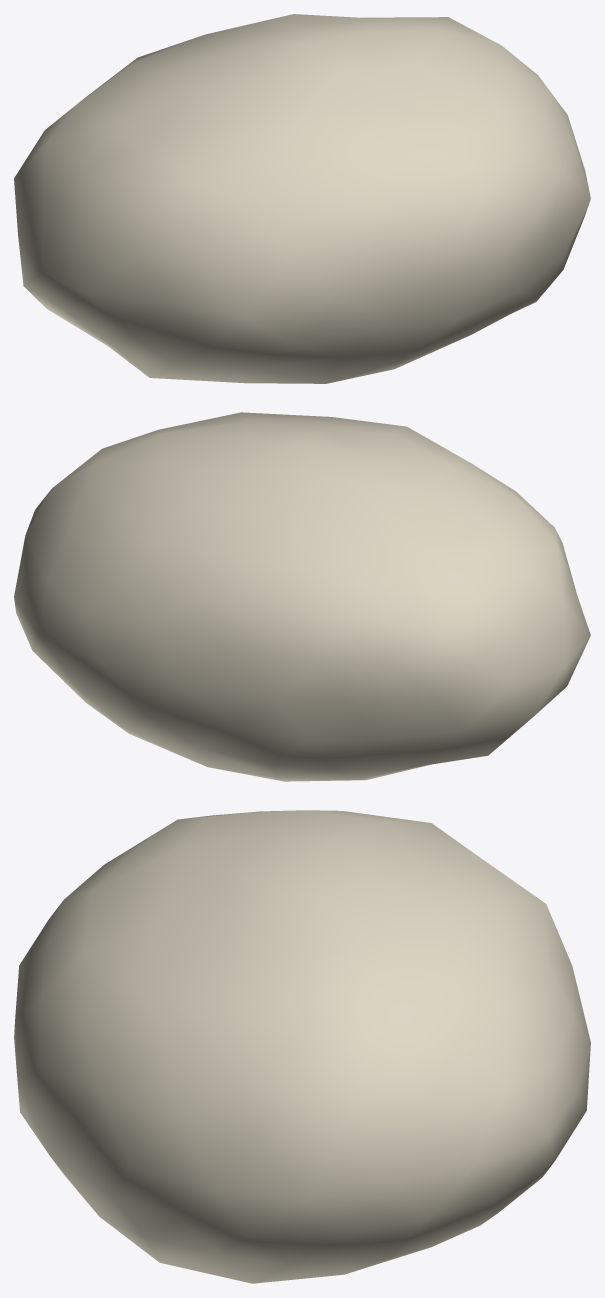
File: Boulder_B.fbx
3 views of the same model, one above another, from view 1: azimuth 30°, elevation 25°; view 2: azimuth 150°, elevation 25°; view 3: azimuth 270°, elevation 25° (orthographic). The views are drawn at different scales.
Visible parts, largest first — view 1: Boulder_B; view 2: Boulder_B; view 3: Boulder_B.
Boxes of the visible parts, box(x1,y1,x2,y2) form: Boulder_B: box(14, 14, 590, 383); Boulder_B: box(14, 412, 590, 781); Boulder_B: box(14, 810, 590, 1283).
Bounding box in the file's own units: 0.6236 × 0.3269 × 0.4917.
